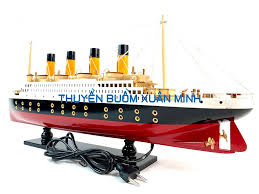tau_dansu: (7, 56, 246, 152)
